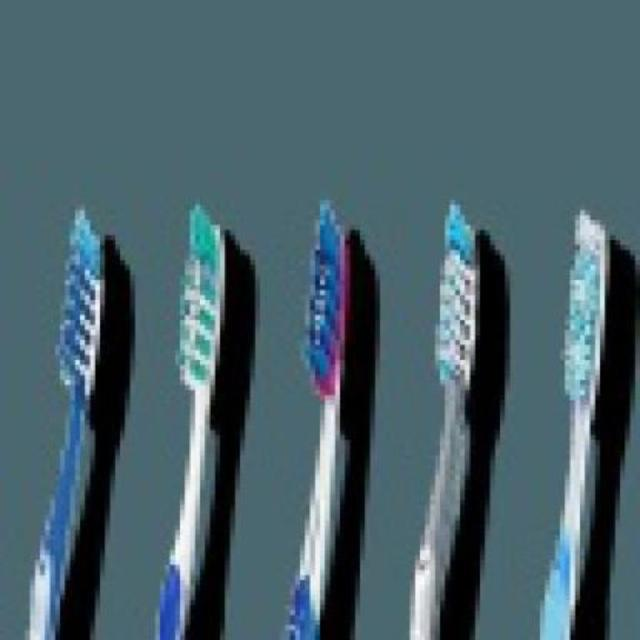toothbrush: (280, 190, 370, 634), (45, 200, 115, 636)
